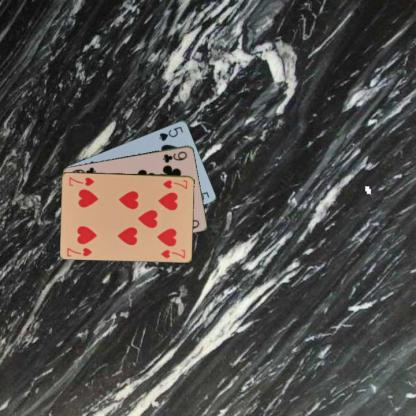5s: (157, 124, 184, 142)
7h: (160, 177, 188, 190), (65, 245, 93, 257)
9c: (160, 149, 188, 164)
